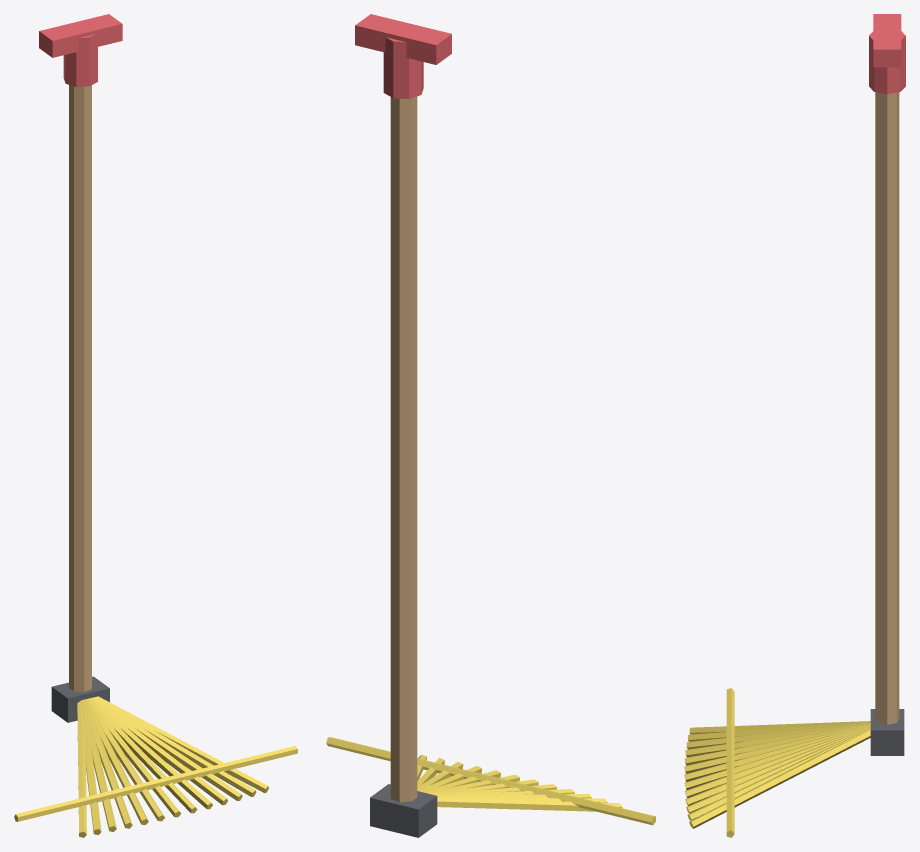
The model's file is lawn-mowing-simulator-kit-leaf-rake-e8fc6fa5__27371.glb.
3 views of the same model, side by side, from view 1: azimuth 30°, elevation 25°; view 2: azimuth 150°, elevation 25°; view 3: azimuth 270°, elevation 25° (orthographic). The views are drawn at different scales.
Parts seen in each view (by area): view 1: leaf-rake; view 2: leaf-rake; view 3: leaf-rake.
Boxes of the visible parts, x1,y1,x2,y2 form: leaf-rake: [14, 14, 297, 837]; leaf-rake: [326, 14, 655, 837]; leaf-rake: [684, 14, 905, 837].
Bounding box in the file's own units: 0.6 × 1.47 × 0.3952.
